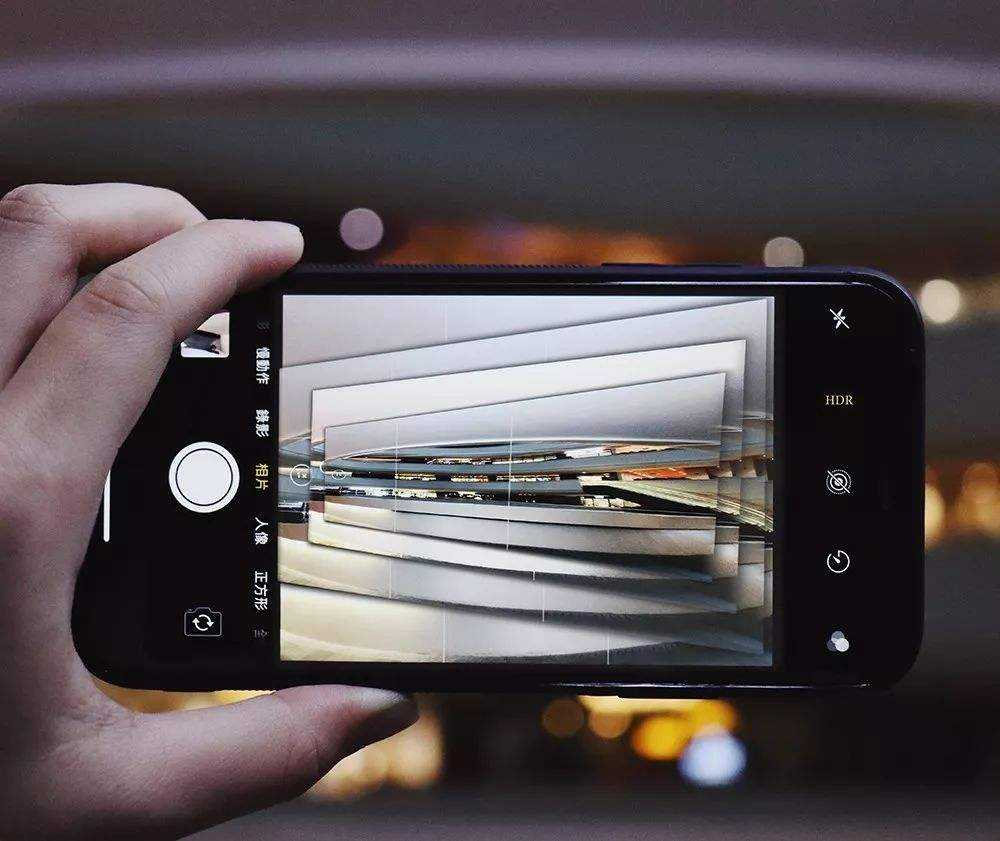taking photos: (1, 172, 932, 817)
